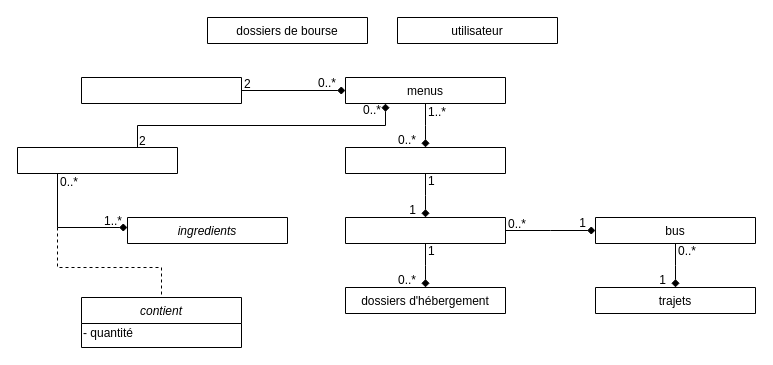
This 773x365 diagram has some shape labels left out. The centre of each missing label's shape, as x and y in pixels:
"campus & résidences" belongs at point 425,230.
"desserts" belongs at point 161,90.
"plats" belongs at point 97,160.
"restaurants" belongs at point 425,160.
